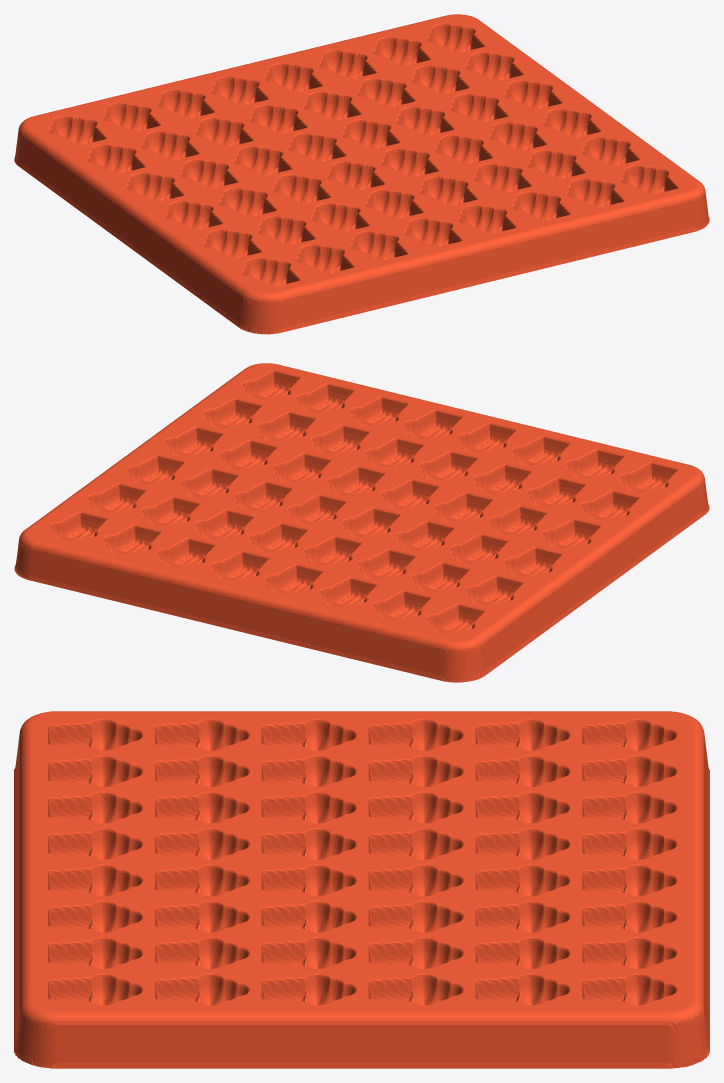
Rendered from mold.glb.
The picture shows the model from 3 angles, top to bottom: view 1: azimuth 30°, elevation 25°; view 2: azimuth 150°, elevation 25°; view 3: azimuth 270°, elevation 25°; orthographic projection. The views are drawn at different scales.
Parts seen in each view (by area): view 1: geometry_0; view 2: geometry_0; view 3: geometry_0.
Boxes of the visible parts, x1,y1,x2,y2 form: geometry_0: [14, 14, 709, 334]; geometry_0: [14, 363, 709, 682]; geometry_0: [14, 711, 709, 1068].
Size of the model in its own units: 0.1542 by 0.0114 by 0.1443.
